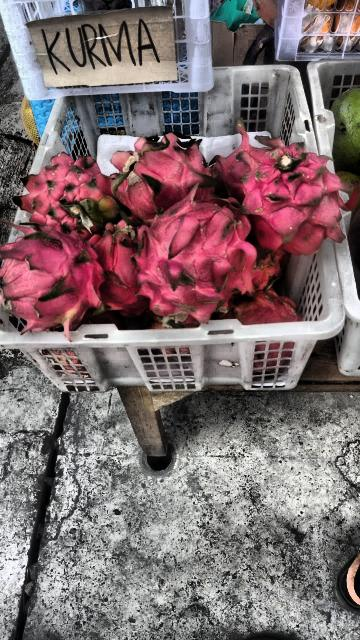buah-naga-belum-matang: (15, 158, 116, 232)
buah-naga-matang: (131, 198, 253, 320), (0, 222, 110, 336), (238, 147, 344, 255), (108, 136, 216, 210)
